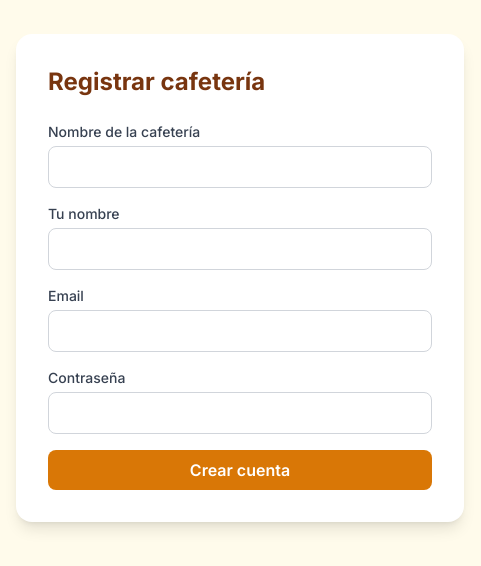
RegistroPage › muestra el mensaje de error del backend si el registro falla (ej. slug duplicado)
Type "Cafeteamos" into the field labelled "Nombre de la cafetería" at [240, 167], box [48,146,432,188]
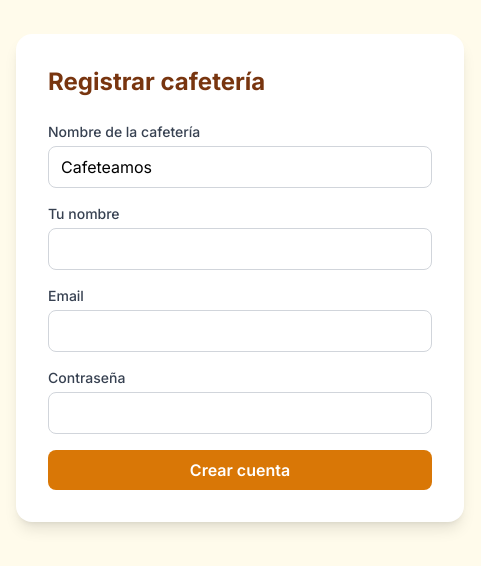
Type "Walter" into the field labelled "Tu nombre" at [240, 249], box [48,228,432,270]
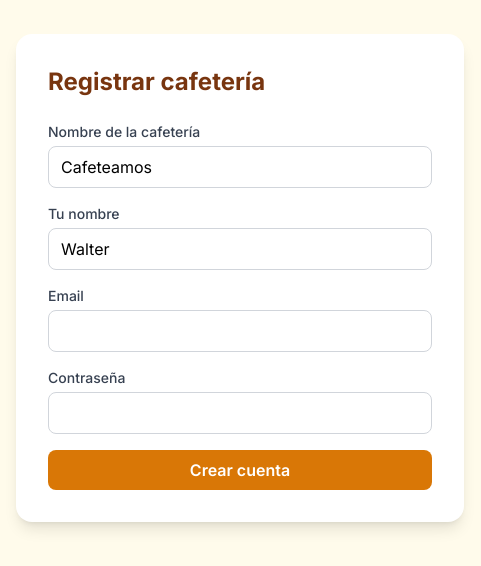
Type "walter@x.com" into the field labelled "Email" at [240, 331], box [48,310,432,352]
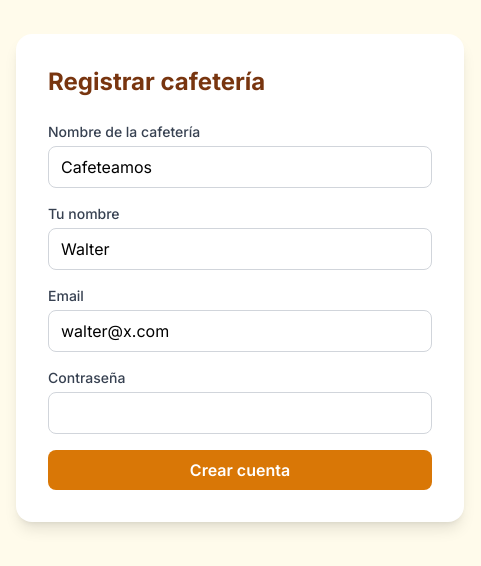
Type "password123" into the password field labelled "Contraseña" at [240, 413], box [48,392,432,434]
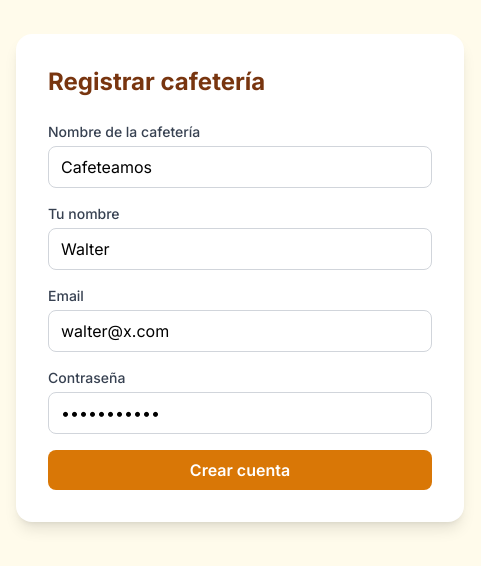
Click the button "Crear cuenta" at [240, 470], box [48,450,432,490]
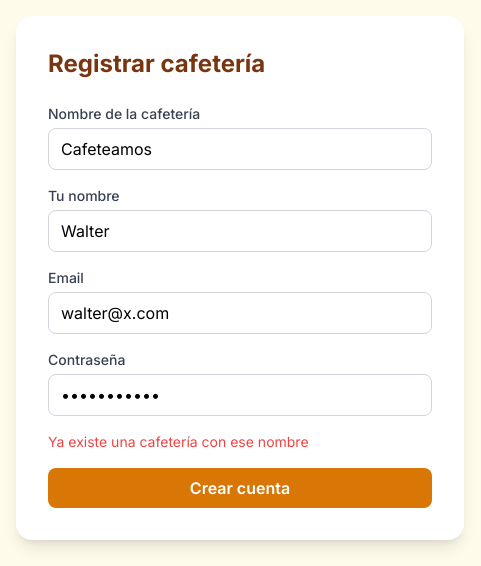
Expected: the text "Ya existe una cafetería con ese nombre" is shown, [48,433,309,450]
